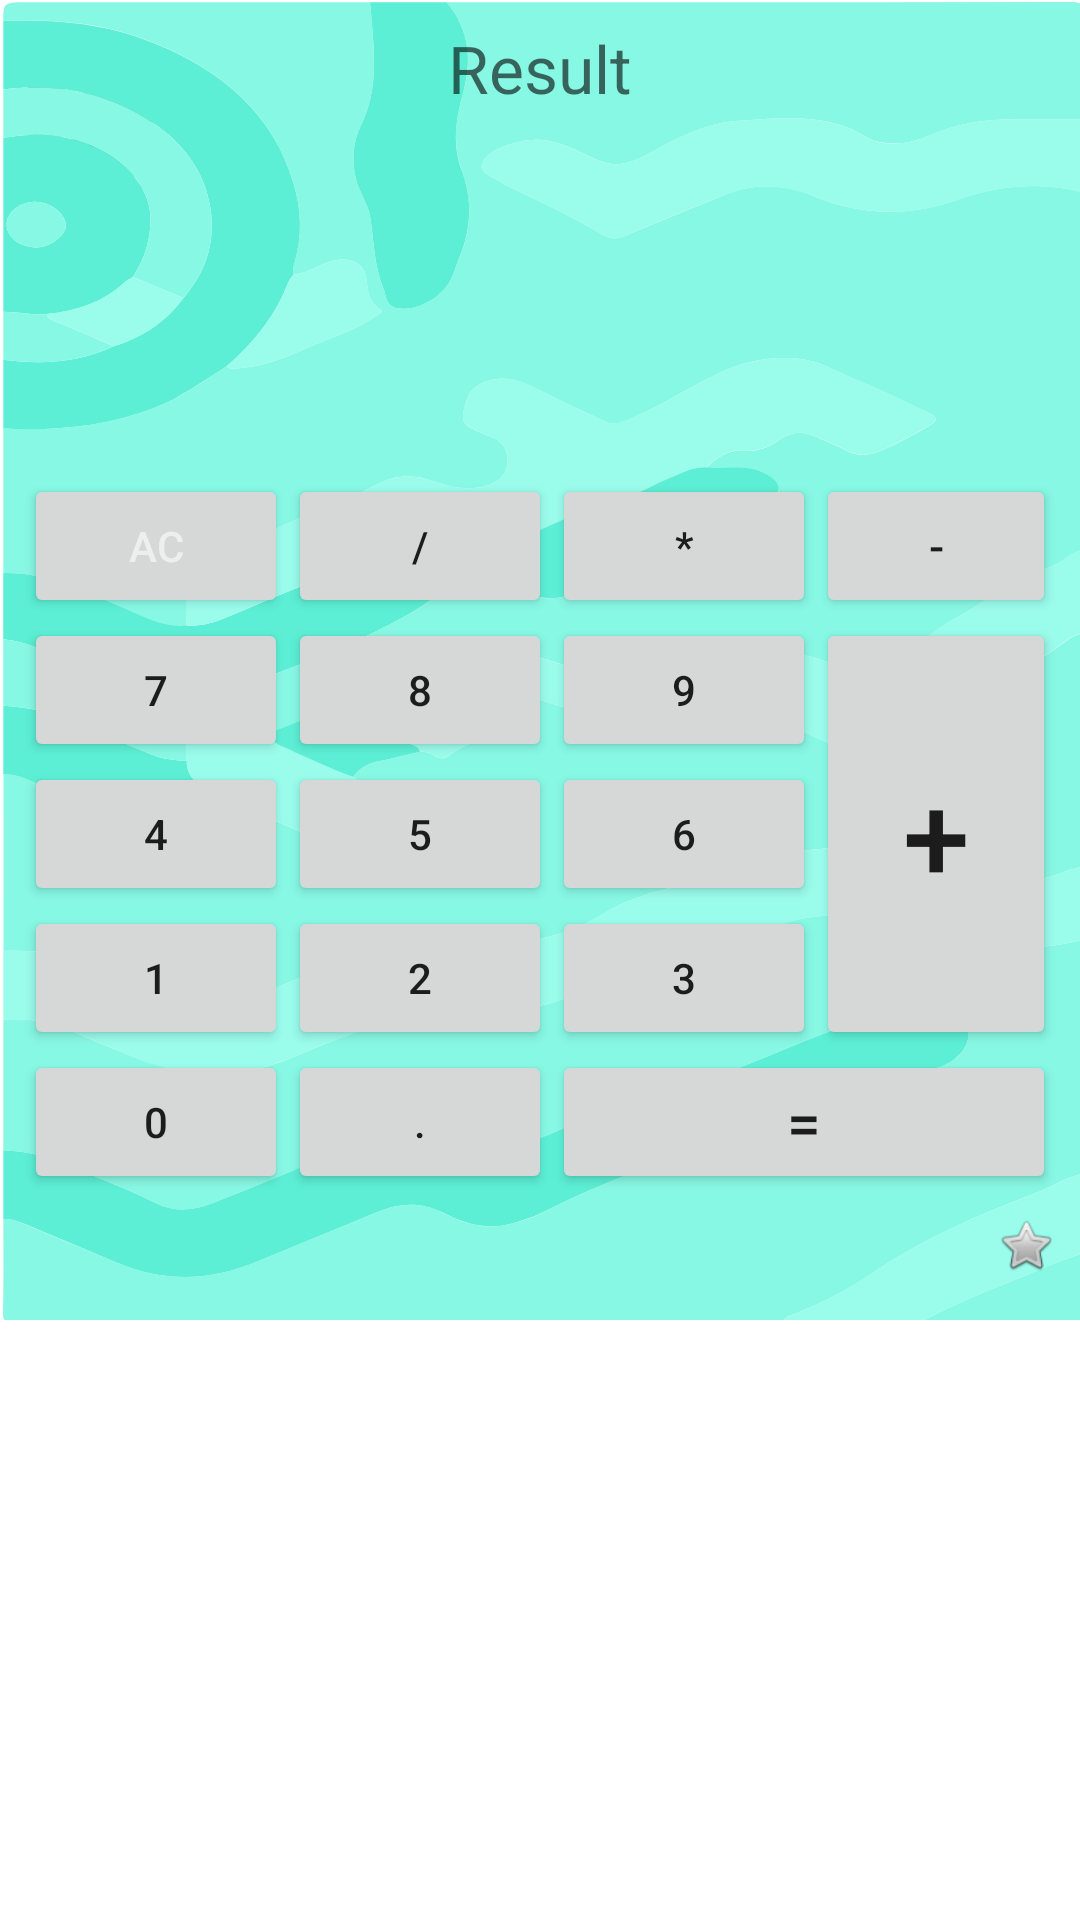

Where icons sit on this 1080×1920 app screen, as {"x1": x1, "y1": y1, "x2": x2, "y2": y2}:
star: {"x1": 1001, "y1": 1221, "x2": 1052, "y2": 1271}
